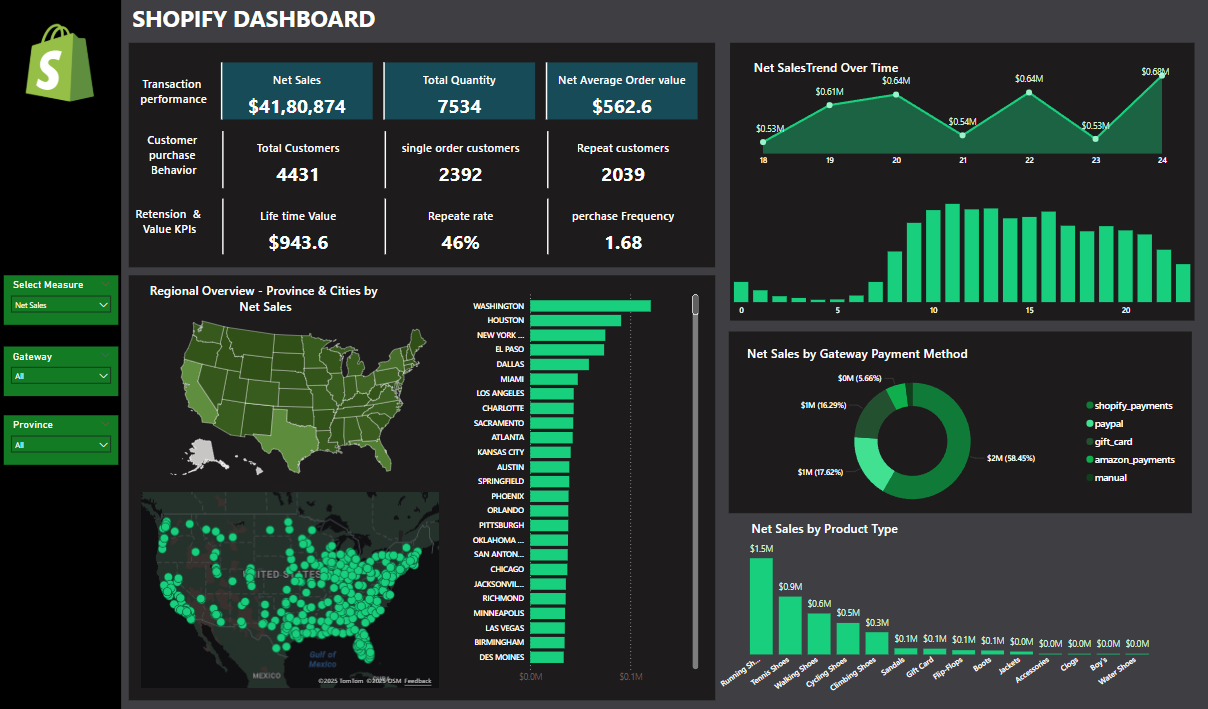

The dashboard page shown, as its layout file describes it:
{"tool":"powerbi","page":{"name":" Dashboard","canvas":[1700,1000],"ordinal":0},"visuals":[{"type":"shape","box":[0,0,170,1000],"z":0},{"type":"textbox","box":[180,0,876,62],"z":1000},{"type":"shape","box":[180.6,61.4,823.1,315.3],"z":2000},{"type":"cardVisual","fields":{"Data":["shopify_sales.Net Sales","shopify_sales.Total Quantity","shopify_sales.Net Average Order value"]},"box":[306,84,680,90],"z":3000},{"type":"card","fields":{"Values":["shopify_sales.Transaction perf"]},"box":[180,84,126,90],"z":4000},{"type":"cardVisual","fields":{"Data":["shopify_sales.Total Customers","shopify_sales.single order customers","shopify_sales.Repeat customers"]},"box":[306.8,179.9,680,90.3],"z":5000},{"type":"card","fields":{"Values":["shopify_sales.Customer purchase behv"]},"box":[180,170.3,126.7,90],"z":6000},{"type":"cardVisual","fields":{"Data":["shopify_sales.Life time Value","shopify_sales.Repeate rate","shopify_sales.perchase Frequency"]},"box":[306.4,276.1,680,88.6],"z":7000},{"type":"card","fields":{"Values":["shopify_sales.Retension & Value kpi"]},"box":[170.4,257.3,136.3,107.4],"z":8000},{"type":"shape","box":[180,388.3,823.3,596.7],"z":9000},{"type":"shapeMap","fields":{"Value":["shopify_sales.Repeat customers"],"Category":["shopify_sales.Billing Address Province"]},"box":[192.5,435,452.5,250],"z":10000},{"type":"slicer","fields":{"Values":["Select Measure.Select Measure"]},"box":[5.4,387.5,160.7,69.6],"z":11000},{"type":"azureMap","fields":{"Category":["shopify_sales.Location"]},"box":[192.5,687.5,427.5,285],"z":12000},{"type":"clusteredBarChart","fields":{"Y":["shopify_sales.Repeat customers"],"Category":["shopify_sales.CITY"]},"box":[648,402,338,568],"z":13000},{"type":"card","fields":{"Values":["shopify_sales.Map Title"]},"box":[180,388,384,64],"z":14000},{"type":"shape","box":[1024,62,652,390],"z":15000},{"type":"areaChart","fields":{"Y":["shopify_sales.Repeat customers"],"Category":["shopify_sales.Invoice Date.Variation.Date Hierarchy.Day"]},"box":[1056,84,590,160],"z":16000},{"type":"columnChart","fields":{"Y":["shopify_sales.Repeat customers"],"Category":["shopify_sales.Hour"]},"box":[1024,260,652,194],"z":17000},{"type":"card","fields":{"Values":["shopify_sales.Trend Title"]},"box":[1024,66,270,64],"z":18000},{"type":"shape","box":[1023.3,466.7,650,255],"z":19000},{"type":"donutChart","fields":{"Y":["shopify_sales.Repeat customers"],"Category":["shopify_sales.Gateway"]},"box":[1033.3,510,630,220],"z":20000},{"type":"card","fields":{"Values":["shopify_sales.Gateway Title"]},"box":[1023.3,475,361.7,48.3],"z":21000},{"type":"columnChart","fields":{"Y":["shopify_sales.Repeat customers"],"Category":["shopify_sales.Product Type"]},"box":[1003.6,744.6,630.4,239.3],"z":22000},{"type":"card","fields":{"Values":["shopify_sales.Product Title"]},"box":[1023.2,712.5,269.6,64.3],"z":23000},{"type":"image","box":[28.6,30.4,112.5,119.6],"z":24000},{"type":"slicer","fields":{"Values":["shopify_sales.Gateway"]},"box":[5.4,487.5,160.7,69.6],"z":25000},{"type":"slicer","fields":{"Values":["shopify_sales.Billing Address Province"]},"box":[5.4,583.9,160.7,69.6],"z":26000}]}

Visuals, with their boxes in screenshot pixels (x1, y1, x2, y2), scaled from the page's 1700x1000 canvas onto the 1208x709 screenshot:
shape: [0, 0, 121, 708]
textbox: [128, 0, 750, 44]
shape: [128, 44, 713, 267]
cardVisual - shopify_sales.Net Sales x shopify_sales.Total Quantity: [217, 60, 701, 123]
card - shopify_sales.Transaction perf: [128, 60, 217, 123]
cardVisual - shopify_sales.Total Customers x shopify_sales.single order customers: [218, 128, 701, 192]
card - shopify_sales.Customer purchase behv: [128, 121, 218, 185]
cardVisual - shopify_sales.Life time Value x shopify_sales.Repeate rate: [218, 196, 701, 259]
card - shopify_sales.Retension & Value kpi: [121, 182, 218, 259]
shape: [128, 275, 713, 698]
shapeMap - shopify_sales.Repeat customers x shopify_sales.Billing Address Province: [137, 308, 458, 486]
slicer - Select Measure.Select Measure: [4, 275, 118, 324]
azureMap - shopify_sales.Location: [137, 487, 441, 690]
clusteredBarChart - shopify_sales.Repeat customers x shopify_sales.CITY: [460, 285, 701, 688]
card - shopify_sales.Map Title: [128, 275, 401, 320]
shape: [728, 44, 1191, 320]
areaChart - shopify_sales.Repeat customers x shopify_sales.Invoice Date.Variation.Date Hierarchy.Day: [750, 60, 1170, 173]
columnChart - shopify_sales.Repeat customers x shopify_sales.Hour: [728, 184, 1191, 322]
card - shopify_sales.Trend Title: [728, 47, 920, 92]
shape: [727, 331, 1189, 512]
donutChart - shopify_sales.Repeat customers x shopify_sales.Gateway: [734, 362, 1182, 518]
card - shopify_sales.Gateway Title: [727, 337, 984, 371]
columnChart - shopify_sales.Repeat customers x shopify_sales.Product Type: [713, 528, 1161, 698]
card - shopify_sales.Product Title: [727, 505, 919, 551]
image: [20, 22, 100, 106]
slicer - shopify_sales.Gateway: [4, 346, 118, 395]
slicer - shopify_sales.Billing Address Province: [4, 414, 118, 463]
